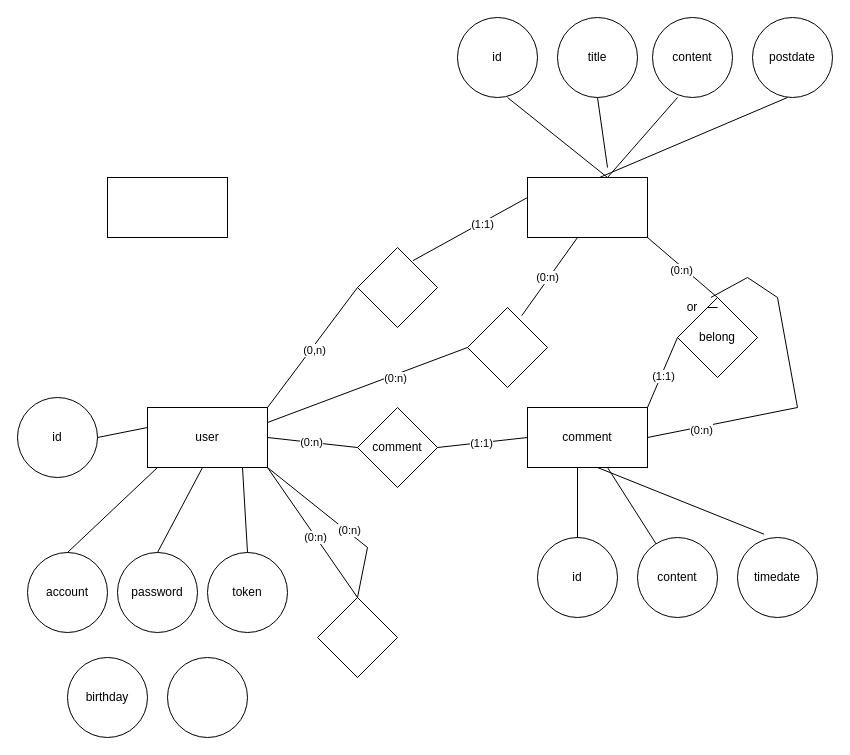
Some shapes in this 850 by 755 pixel diagram are drawn without their labels. The shapes that lost their labels are listed below. From the top down, each one's centre as x and y in pixels, then its label:
At (167,207): "category".
At (587,207): "article".
At (397,287): "write".
At (507,347): "like".
At (357,637): "subscribe".
